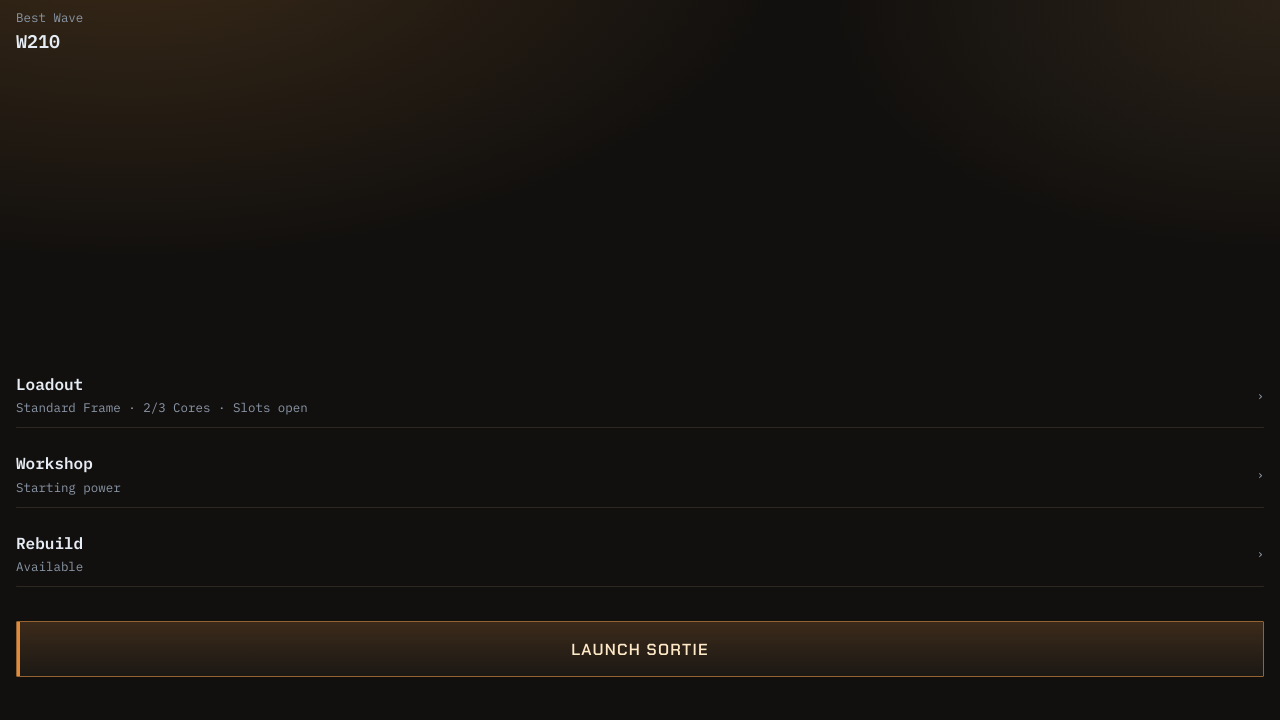
Test: UI architecture reset › keeps Dock as a home hub with Launch and own screens
Expected: the text "Best Wave" is shown, [16, 8, 83, 26]
Expected: the button "Workshop Starting power ›" is shown, [16, 440, 1264, 508]
Click the button "Loadout Standard Frame · 2/3 Cores · Slots open ›" at (50, 384), box [16, 361, 1264, 428]
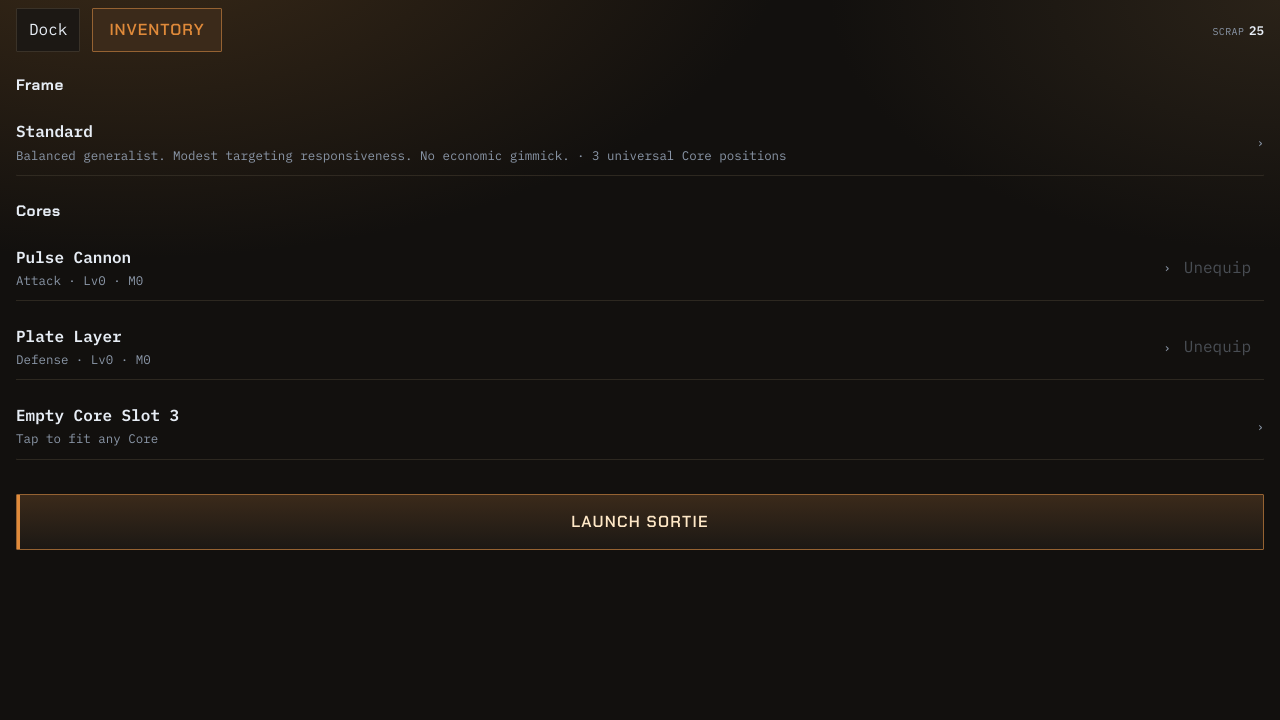
Expected: the button "Inventory" is shown, [92, 8, 222, 52]
Click the button "Dock" at (48, 30), box [16, 8, 80, 52]
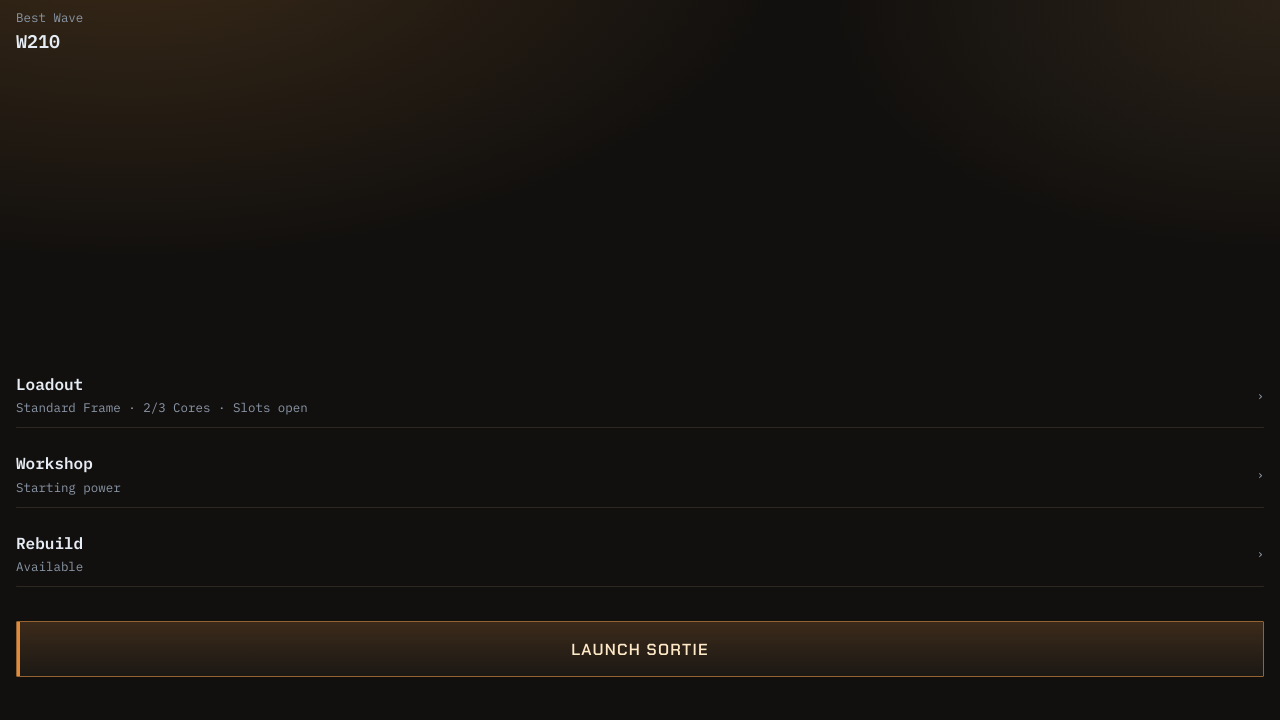
Click the button "Workshop Starting power ›" at (54, 463), box [16, 440, 1264, 508]
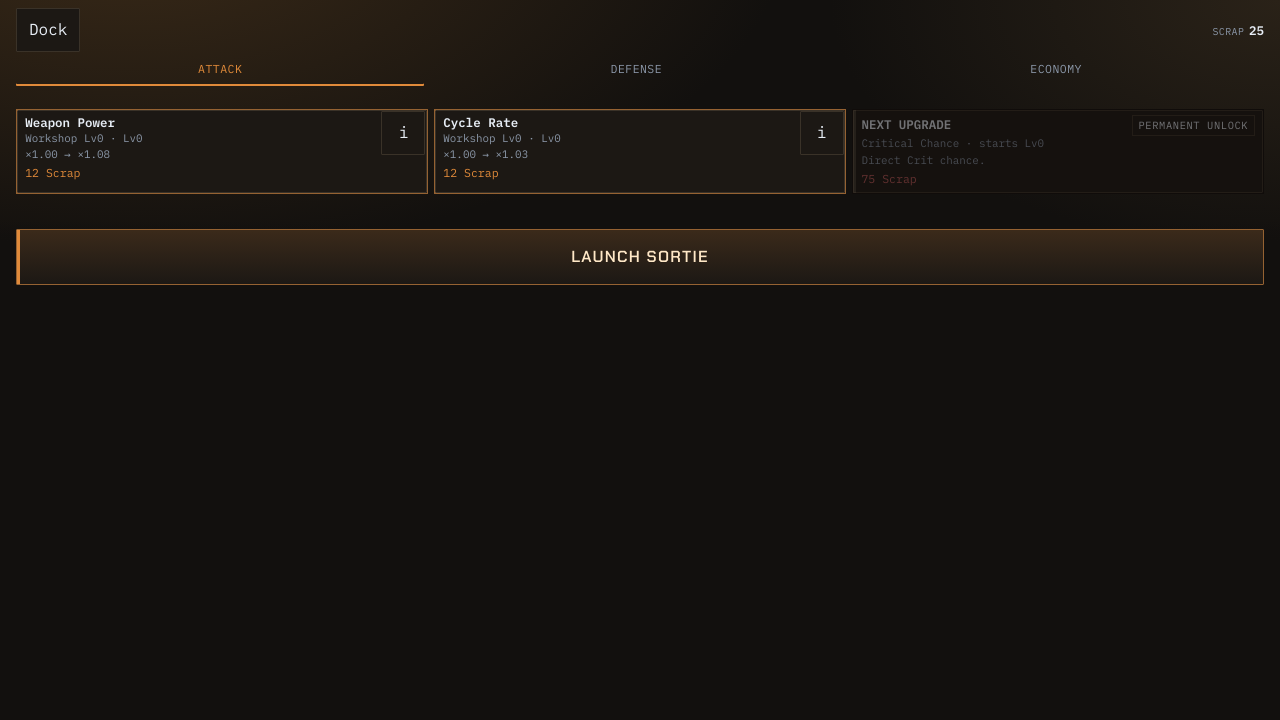
Expected: the element with class "sheet-tabs" is shown, [0, 52, 1279, 86]
Expected: the element with class "upgrade-grid" is shown, [16, 109, 1264, 194]
Click the button "Dock" at (48, 30), box [16, 8, 80, 52]
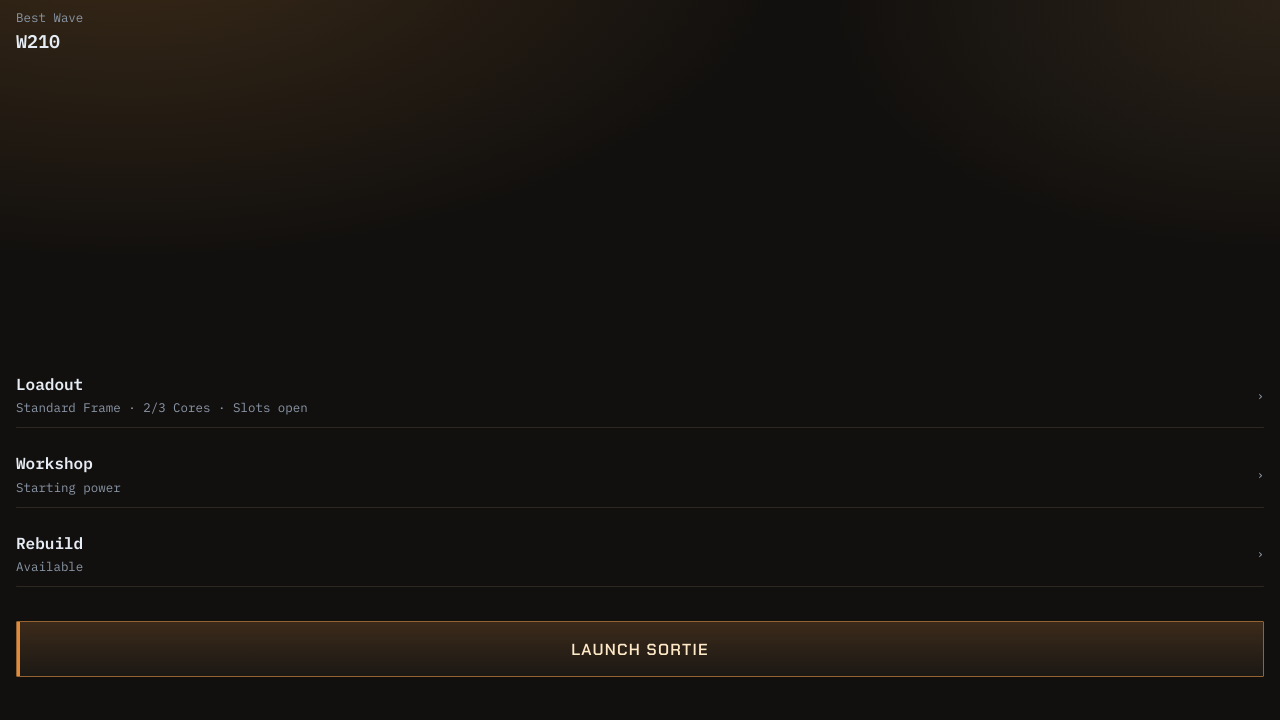
Click the button "Rebuild Available ›" at (50, 543), box [16, 520, 1264, 587]
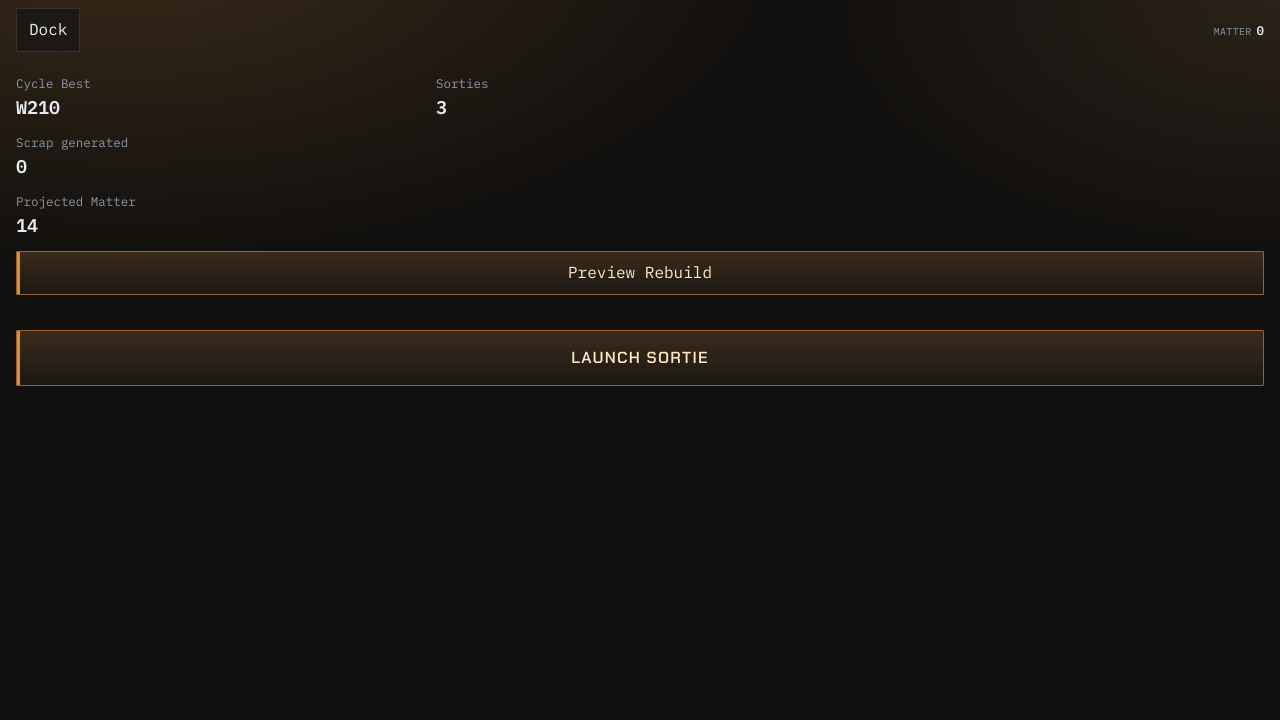
Expected: the text "Projected Matter" is shown, [16, 193, 136, 209]
Expected: the text "Cycle Best" is shown, [16, 75, 91, 91]
